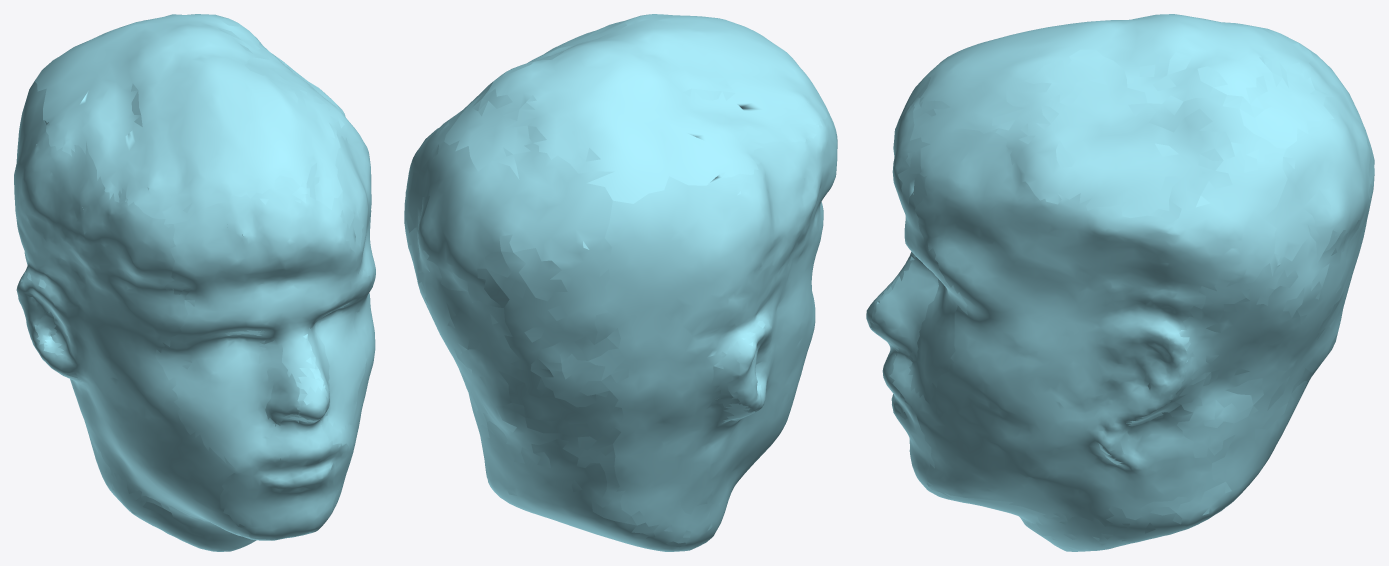
File: 3DSCANFULLGLASS.glb
3 views of the same model, side by side, from view 1: azimuth 30°, elevation 25°; view 2: azimuth 150°, elevation 25°; view 3: azimuth 270°, elevation 25° (orthographic). The views are drawn at different scales.
Visible parts, largest first — view 1: Sphere; view 2: Sphere; view 3: Sphere.
Boxes of the visible parts, x1,y1,x2,y2 form: Sphere: (14, 14, 375, 551); Sphere: (404, 14, 837, 551); Sphere: (866, 14, 1374, 551).
Bounding box in the file's own units: 1.41 × 2.08 × 1.83.
